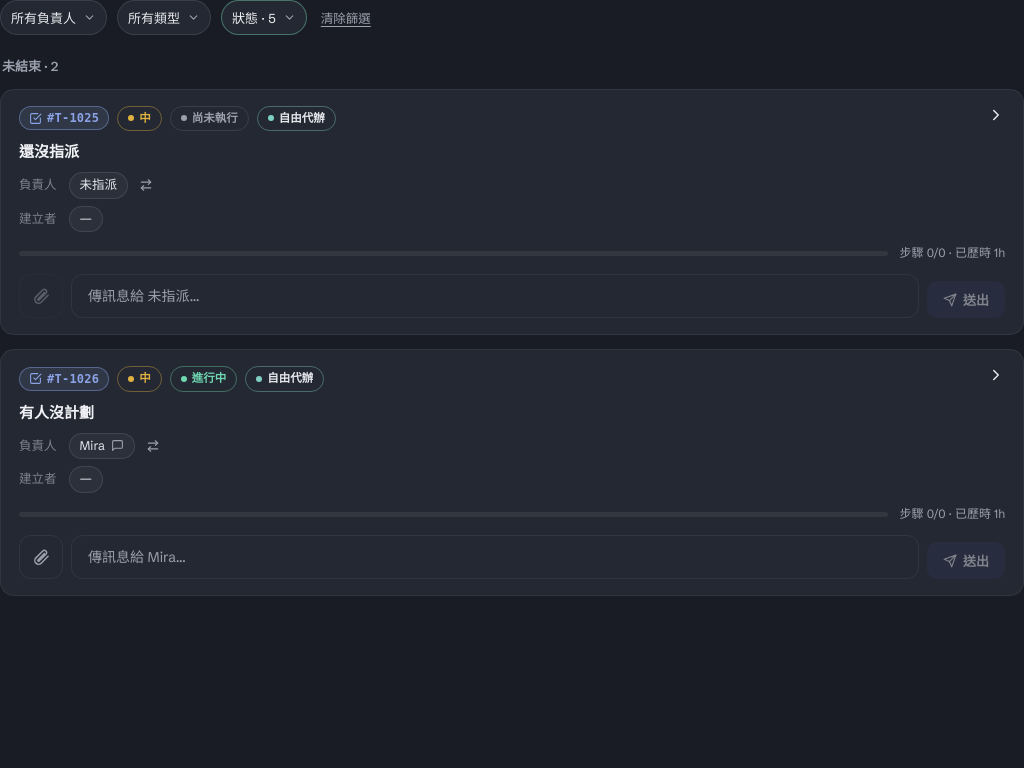
it: TasksPage › shows the transitional states: 未指派 → 等待指派, 有執行者但零節點 → 等待 ○○ 建立 Steps
What coordinates should you click on to do the following:
click the button with test id "task-card" that starts with "T-1025"
I would click on:
 (512, 320)
Its box is [0,88,1023,335].
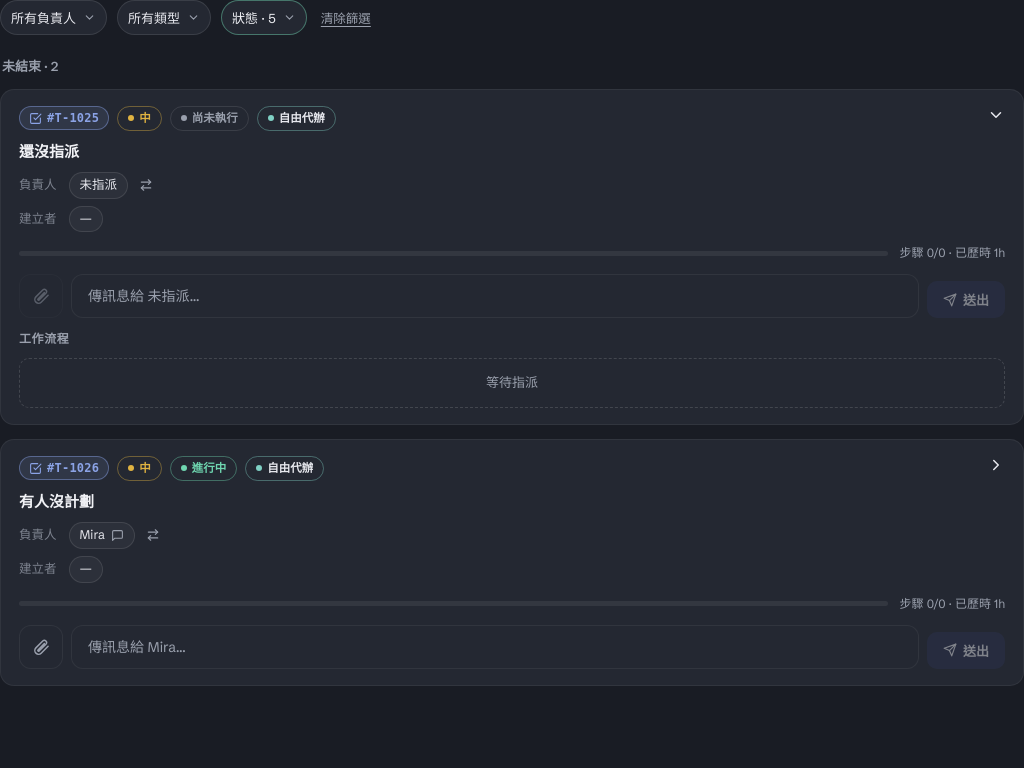
What coordinates should you click on to do the following:
click the button with test id "task-card" that starts with "T-1026"
I would click on:
 (512, 671)
Its box is [0,439,1023,686].
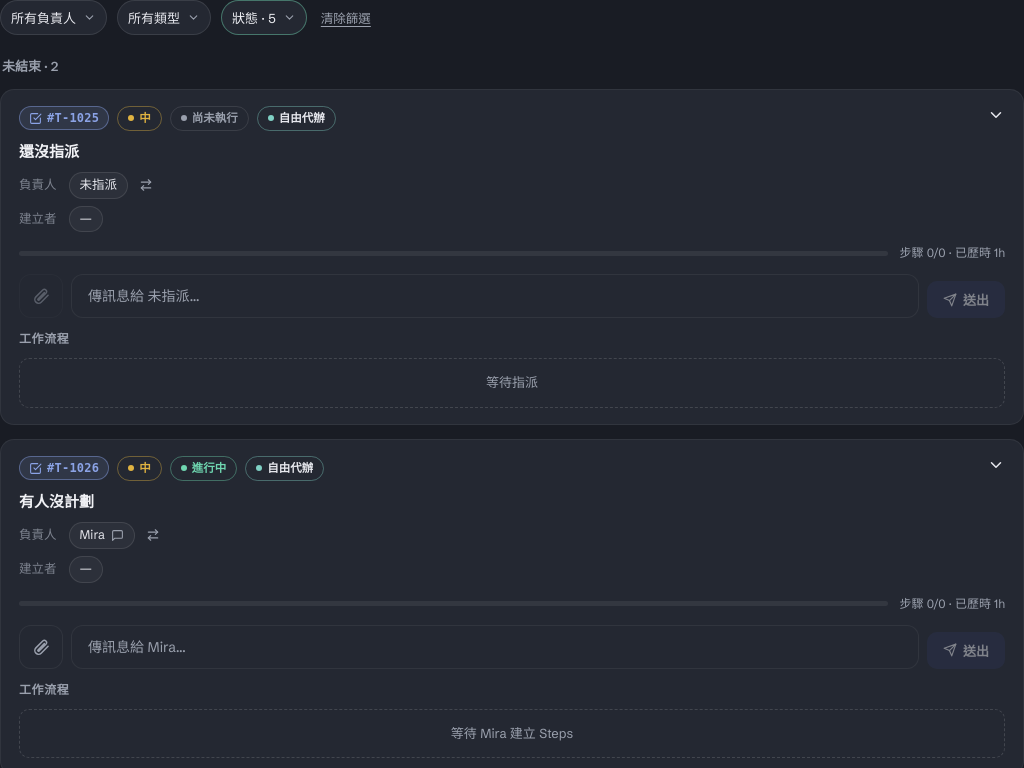
Now the text with test id "task-transition" reads "等待指派", box [486,374,538,390]
Now the text with test id "task-transition" reads "等待 Mira 建立 Steps", box [451,724,573,740]
